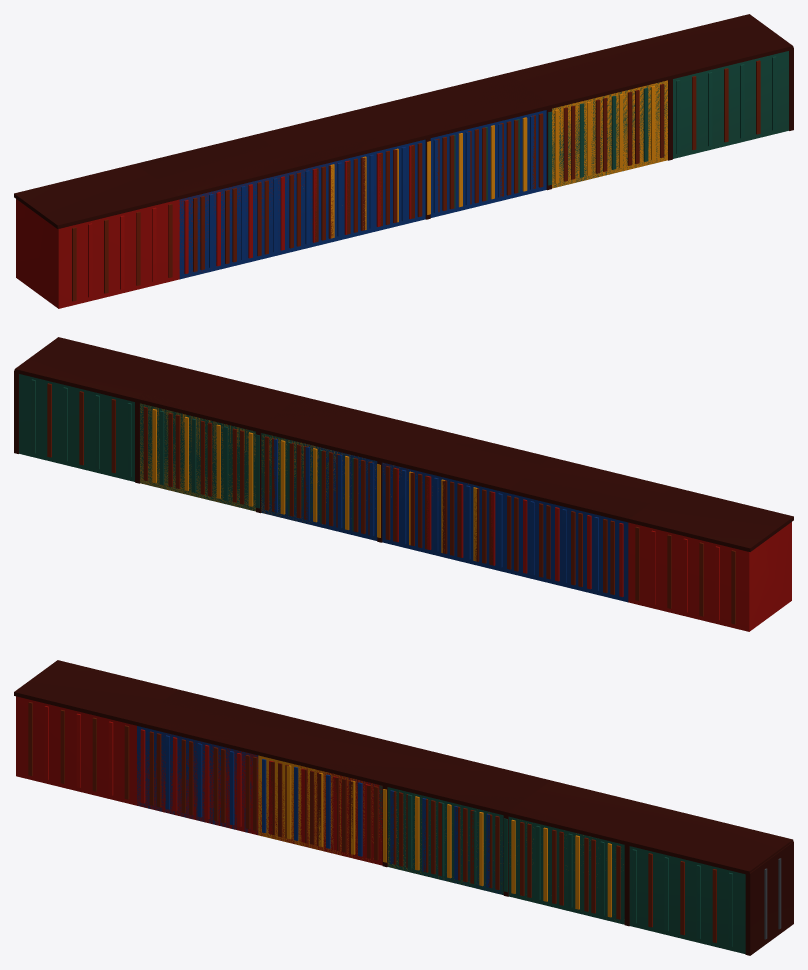
The model's file is tb_containers.three-web-toon.glb.
The picture shows the model from 3 angles, top to bottom: view 1: azimuth 30°, elevation 25°; view 2: azimuth 150°, elevation 25°; view 3: azimuth 330°, elevation 25°; orthographic projection.
Parts seen in each view (by area): view 1: container_blue, container_teal, container_red, container_yellow; view 2: container_teal, container_blue, container_yellow, container_red; view 3: container_teal, container_red, container_blue, container_yellow.
Boxes of the visible parts, x1=… form: container_blue: x1=135, y1=73, x2=551, y2=279; container_teal: x1=416, y1=14, x2=793, y2=212; container_red: x1=14, y1=132, x2=430, y2=308; container_yellow: x1=256, y1=45, x2=672, y2=242; container_teal: x1=14, y1=337, x2=376, y2=535; container_blue: x1=256, y1=396, x2=672, y2=602; container_yellow: x1=135, y1=367, x2=551, y2=565; container_red: x1=377, y1=457, x2=793, y2=631; container_teal: x1=379, y1=776, x2=793, y2=955; container_red: x1=14, y1=660, x2=387, y2=867; container_blue: x1=135, y1=689, x2=550, y2=896; container_yellow: x1=257, y1=753, x2=629, y2=926.
Bounding box in the file's own units: 24.37 × 2.66 × 2.54.
